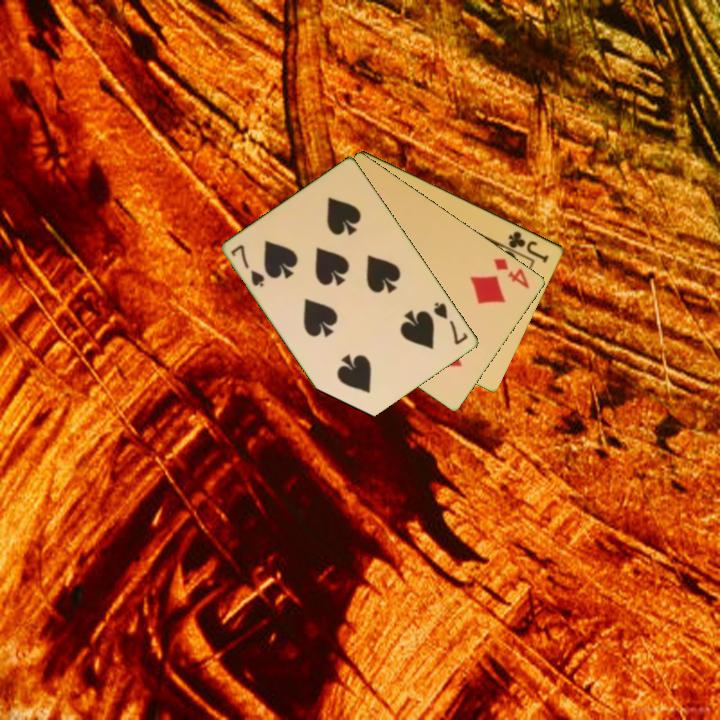4d: (490, 254, 533, 292)
7s: (430, 298, 471, 348), (228, 241, 268, 290)
Jc: (505, 227, 552, 266)
